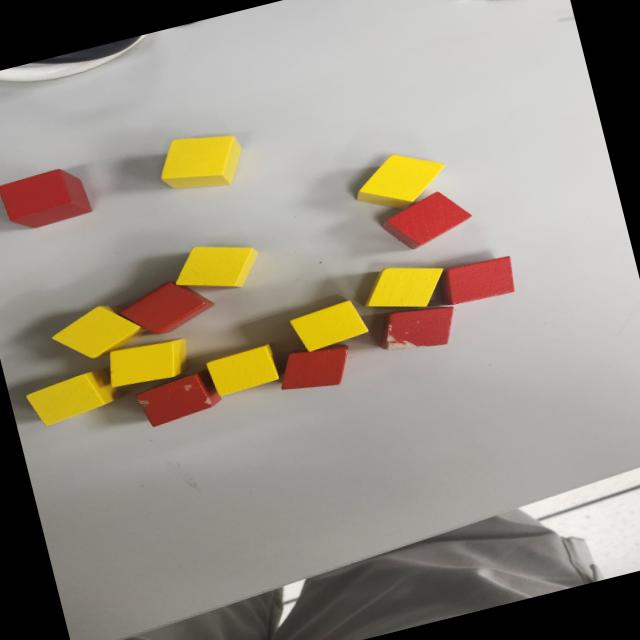broken: (134, 368, 225, 428), (372, 298, 461, 358)
red: (116, 271, 218, 343), (377, 184, 478, 255), (0, 163, 93, 234), (427, 252, 518, 310), (272, 339, 356, 398)
yellow: (347, 142, 453, 219), (152, 123, 249, 200), (46, 296, 146, 367), (168, 231, 266, 302), (22, 364, 124, 429), (356, 254, 452, 320), (102, 333, 193, 391), (288, 297, 370, 353), (203, 343, 280, 397)
